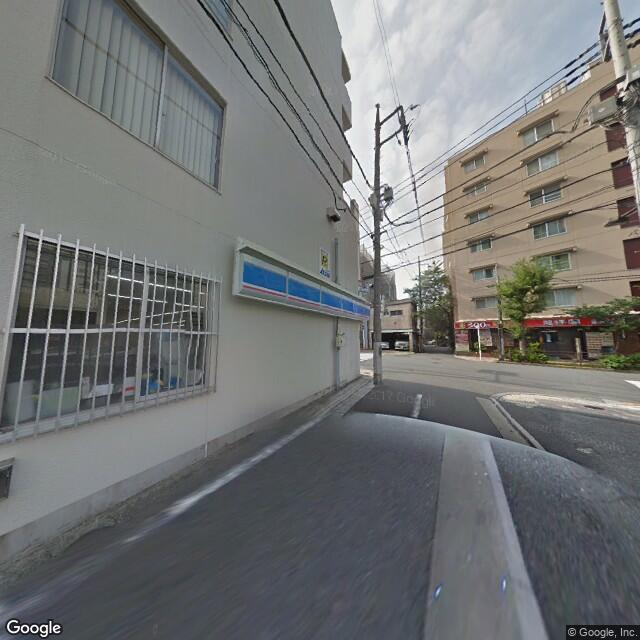lawson: (229, 248, 377, 327)
